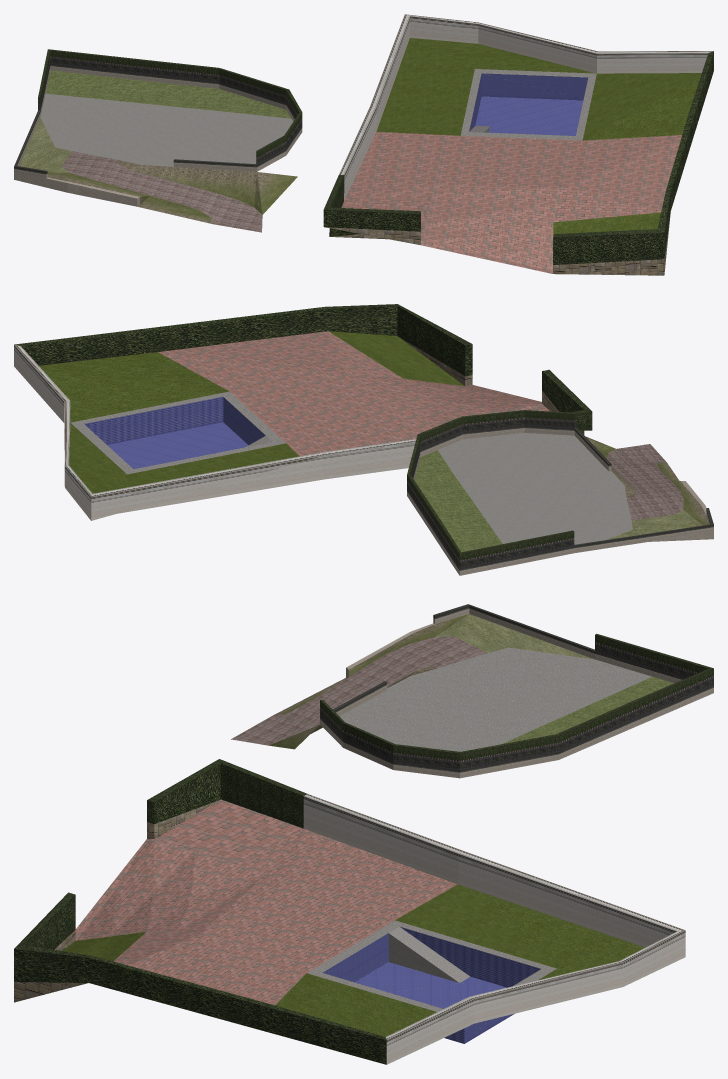
File: cuntelandf4.obj
The picture shows the model from 3 angles, top to bottom: view 1: azimuth 30°, elevation 25°; view 2: azimuth 150°, elevation 25°; view 3: azimuth 270°, elevation 25°; orthographic projection. The views are drawn at different scales.
Visible parts, largest first — view 1: cuntelandF4; view 2: cuntelandF4; view 3: cuntelandF4.
Part boxes in pixels (x1,y1,x2,y2): cuntelandF4: [14, 14, 713, 275]; cuntelandF4: [14, 304, 713, 575]; cuntelandF4: [14, 604, 713, 1064].
Bounding box in the file's own units: 106 × 15.65 × 76.78.
